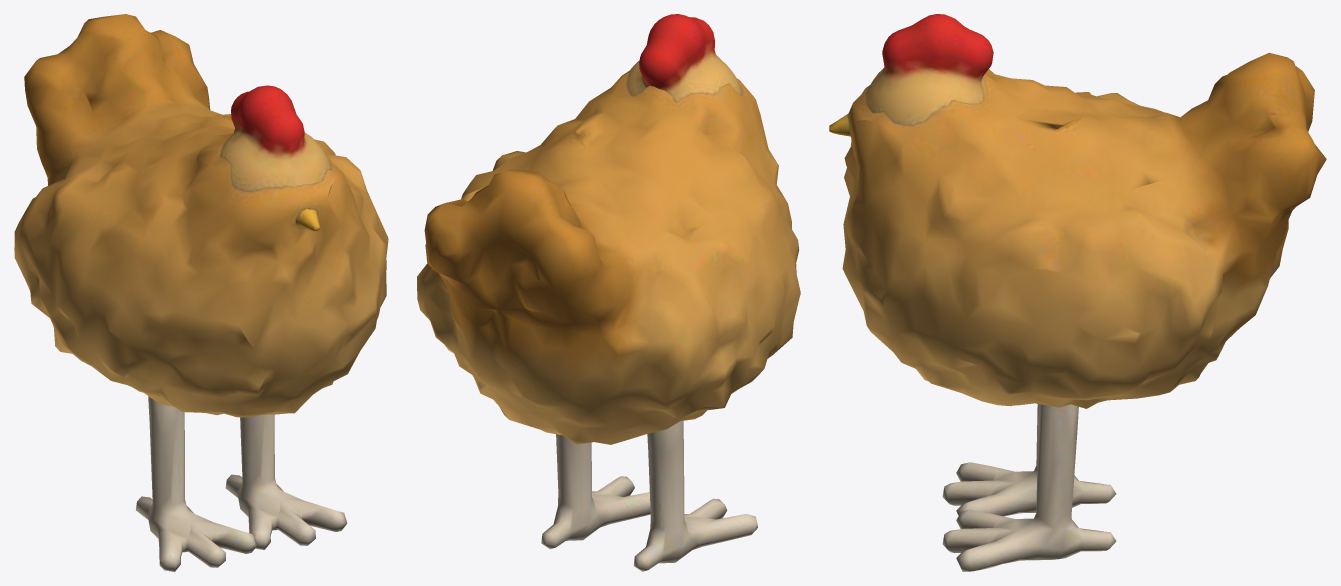
The model's file is animal_orpington.glb.
3 renders of one model, left to right at view 1: azimuth 30°, elevation 25°; view 2: azimuth 150°, elevation 25°; view 3: azimuth 270°, elevation 25°, orthographic. The views are drawn at different scales.
Parts seen in each view (by area): view 1: animal_orpington, head, leg0, leg1; view 2: animal_orpington, leg0, head, leg1; view 3: animal_orpington, leg1, head, leg0.
Part boxes in pixels (<box>): animal_orpington: <box>14,14,388,417</box>; head: <box>220,85,330,231</box>; leg0: <box>136,396,256,571</box>; leg1: <box>225,414,347,549</box>; animal_orpington: <box>417,71,800,444</box>; leg0: <box>633,420,757,571</box>; head: <box>627,14,741,101</box>; leg1: <box>541,434,650,549</box>; animal_orpington: <box>842,52,1326,408</box>; leg1: <box>942,404,1116,571</box>; head: <box>829,14,993,136</box>; leg0: <box>942,404,1116,516</box>.
Bounding box in the file's own units: 0.2017 × 0.3066 × 0.2663.
Materials: 1 (1 with a texture image).
